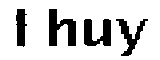h: (43, 3, 79, 52)
l: (9, 6, 32, 50)
u: (81, 13, 113, 50)
y: (115, 14, 152, 60)
